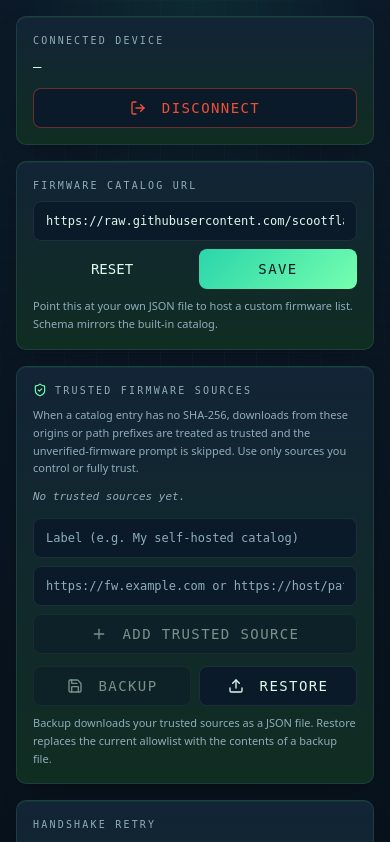
SettingsScreen — trusted-source input rejects http › accepts an https prefix and renders it in the trusted list
Step 1. Type "Self-host" into the field with placeholder "Label (e.g. My self-hosted catalog)" → (195, 538), box left=33, top=518, right=357, bottom=558
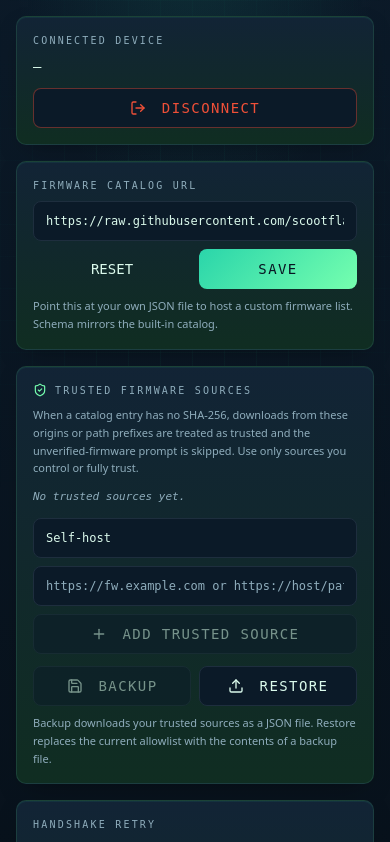
Step 2. Type "https://fw.example.com/m365" into the field with placeholder "https://fw.example.com or https://host/path/" → (195, 586), box left=33, top=566, right=357, bottom=606
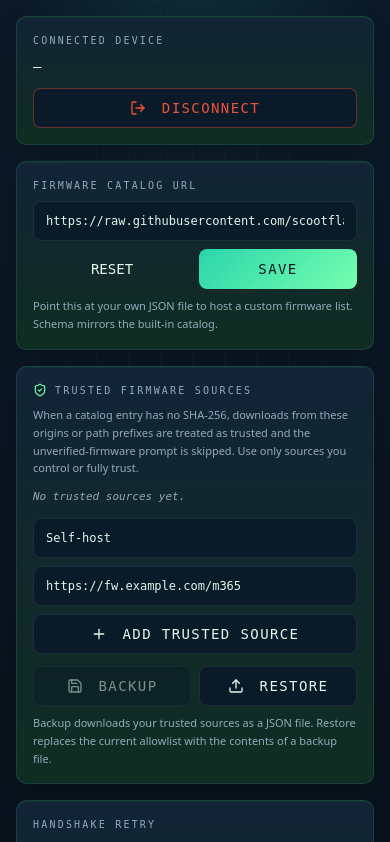
Step 3. Click the button "ADD TRUSTED SOURCE" → click(195, 634), box left=33, top=614, right=357, bottom=654
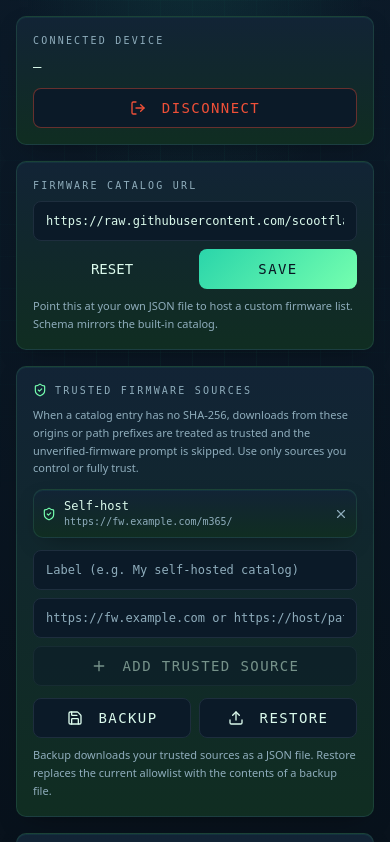
Expected: the text "https://fw.example.com/m365/" is shown, left=64, top=516, right=233, bottom=527
